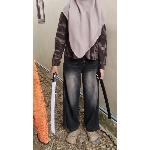Pedang: (46, 64, 62, 140)
